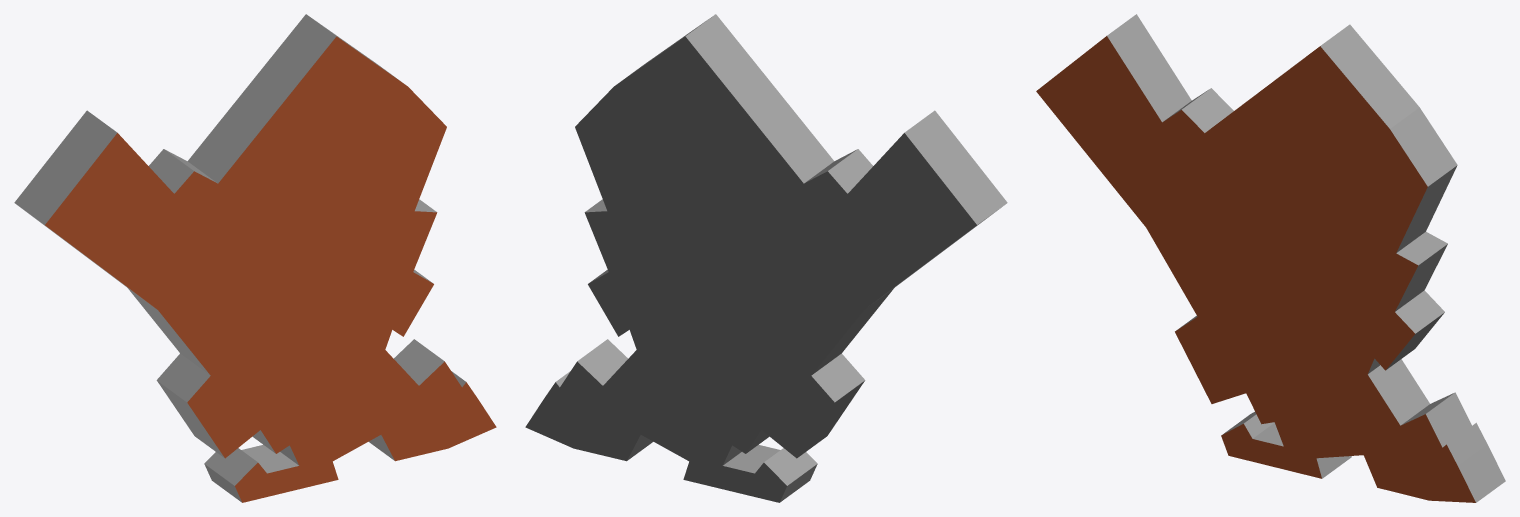
File: construction_3413_assumed_A_Casa_h6m.obj
The picture shows the model from 3 angles, left to right: view 1: azimuth 30°, elevation 25°; view 2: azimuth 150°, elevation 25°; view 3: azimuth 330°, elevation 25°; orthographic projection. The views are drawn at different scales.
Visible parts, largest first — view 1: construction_3413_assumed_A_Casa; view 2: construction_3413_assumed_A_Casa; view 3: construction_3413_assumed_A_Casa.
Part boxes in pixels (x1,y1,x2,y2): construction_3413_assumed_A_Casa: (14, 14, 496, 502); construction_3413_assumed_A_Casa: (525, 14, 1007, 502); construction_3413_assumed_A_Casa: (1036, 14, 1505, 502).
Bounding box in the file's own units: 51.22 × 48.08 × 6.
